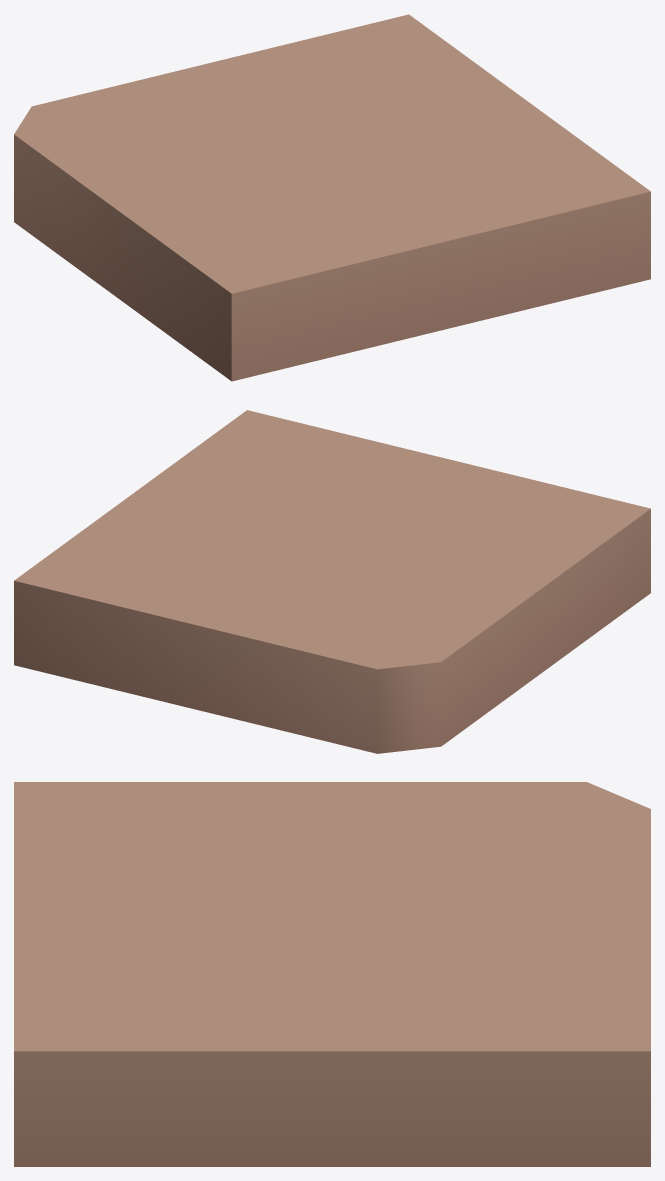
The model's file is quarter-surface.glb.
The picture shows the model from 3 angles, top to bottom: view 1: azimuth 30°, elevation 25°; view 2: azimuth 150°, elevation 25°; view 3: azimuth 270°, elevation 25°; orthographic projection. The views are drawn at different scales.
Visible parts, largest first — view 1: quarter-surface; view 2: quarter-surface; view 3: quarter-surface.
Part boxes in pixels (left/top/right/bottom): quarter-surface: left=14, top=14, right=650, bottom=381; quarter-surface: left=14, top=410, right=650, bottom=753; quarter-surface: left=14, top=782, right=650, bottom=1166.
Bounding box in the file's own units: 0.5 × 0.1 × 0.5.
